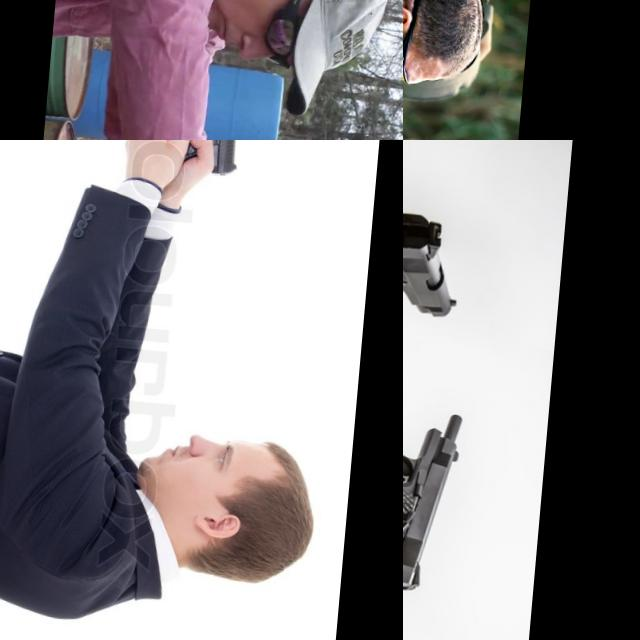handgun: (403, 404, 466, 599), (403, 195, 467, 323), (182, 140, 247, 201)
